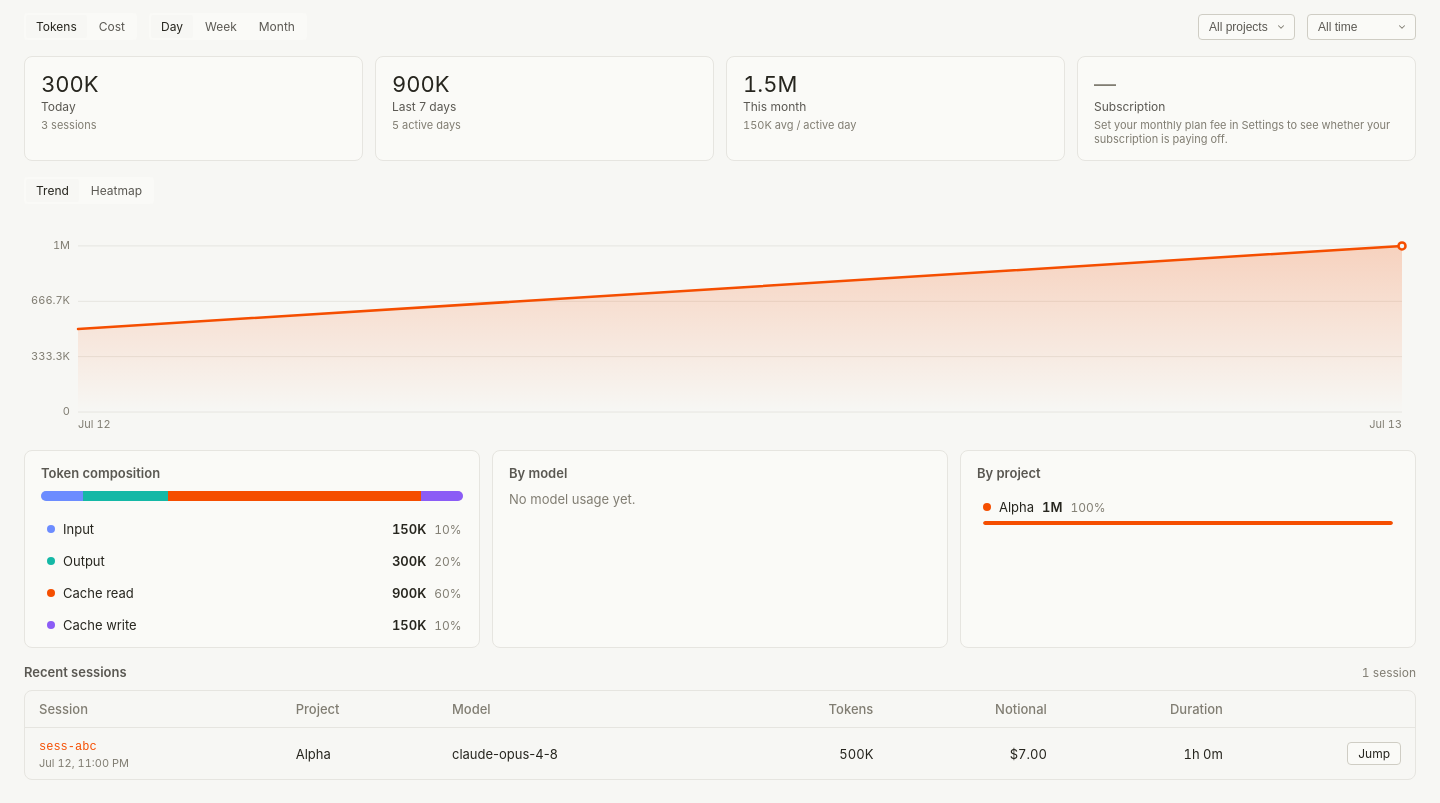
Scenario: UsageDashboard — by-project + session explorer (Slice 55) › expands a session to its summary, fetched lazily
The image size is (1440, 803).
What coordinates should you click on to do the following:
click the button "sess-abc"
I would click on:
 (68, 747)
Its box is [39,740,97,754].
(page scrolled)
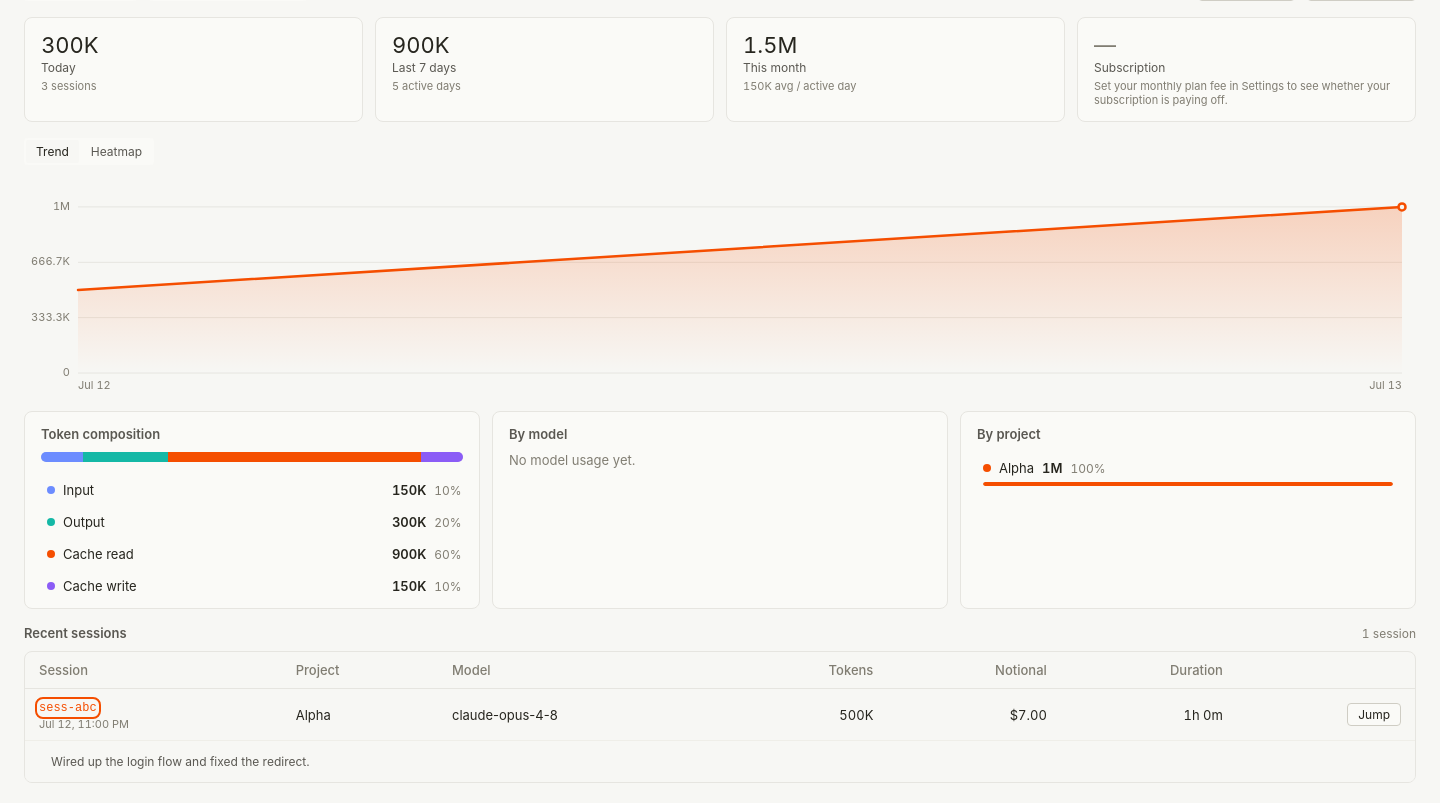
Now the text "Wired up the login flow and fixed the redirect." is shown, box [51,754,310,769]
